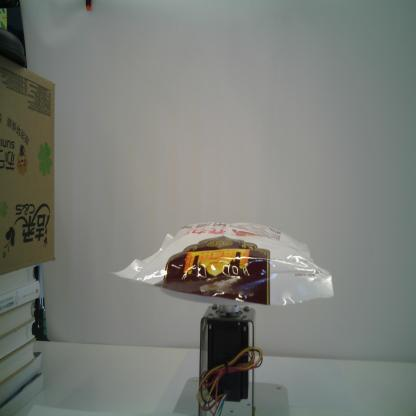Dried Food: (104, 219, 336, 308)
